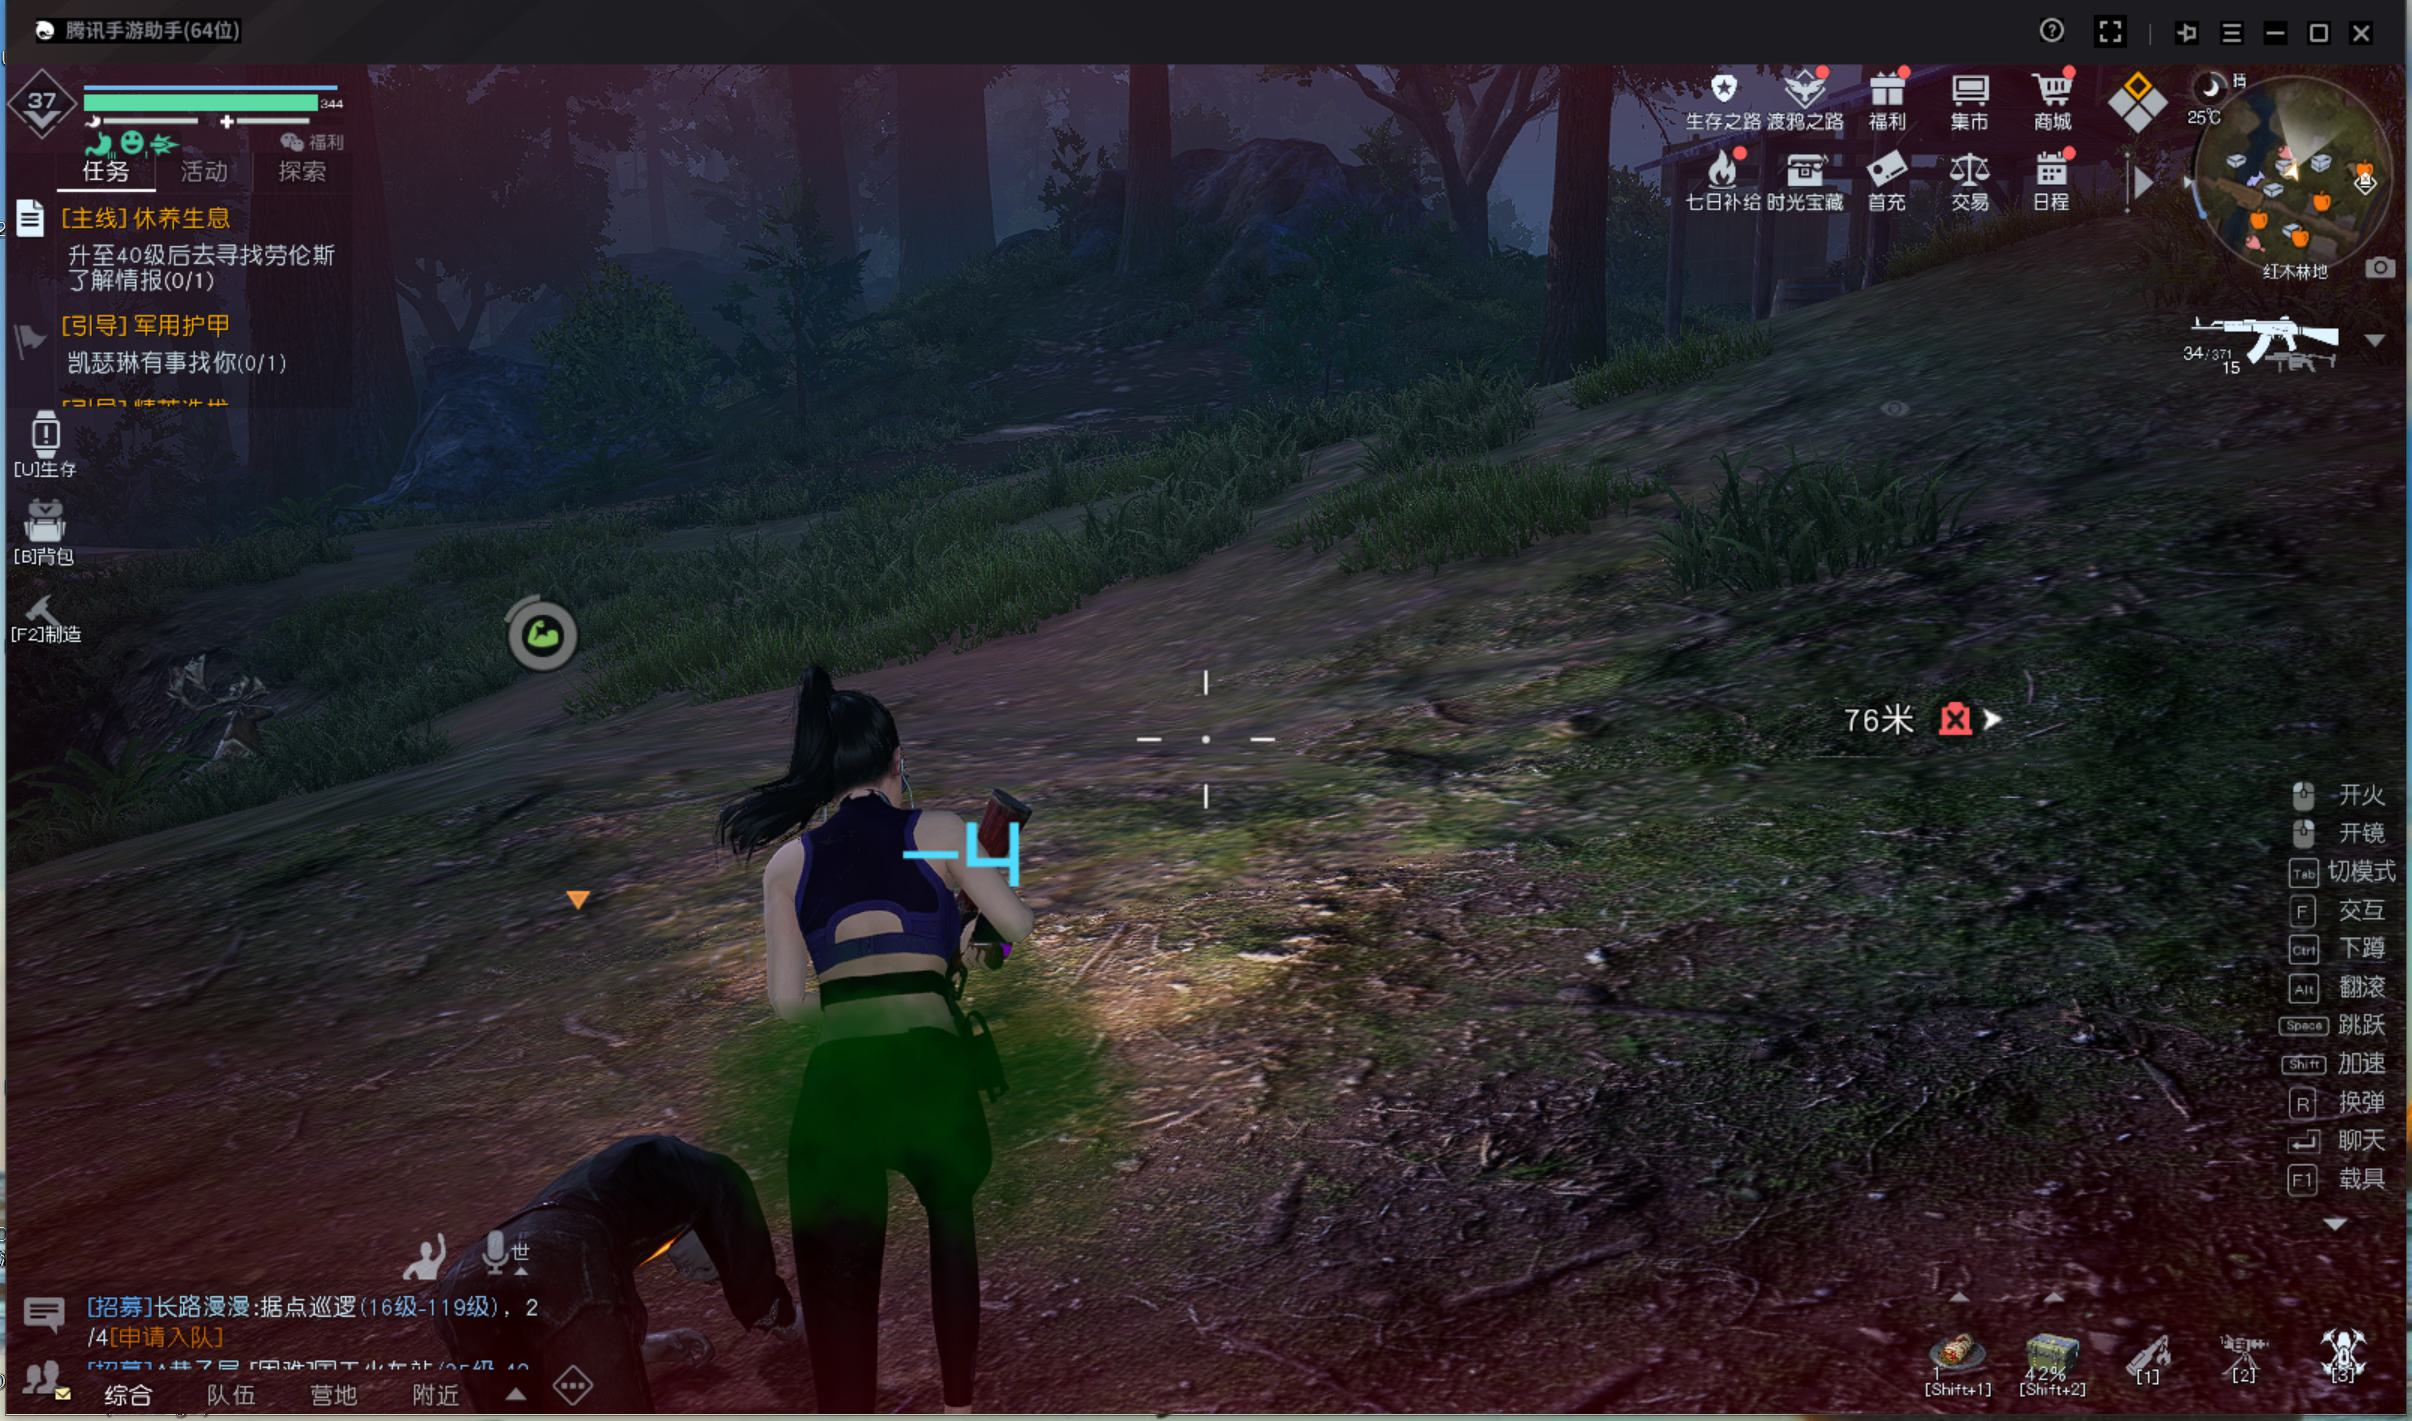tree: (885, 110, 1006, 311), (1539, 100, 1610, 394), (783, 90, 868, 320), (1106, 86, 1186, 291)
